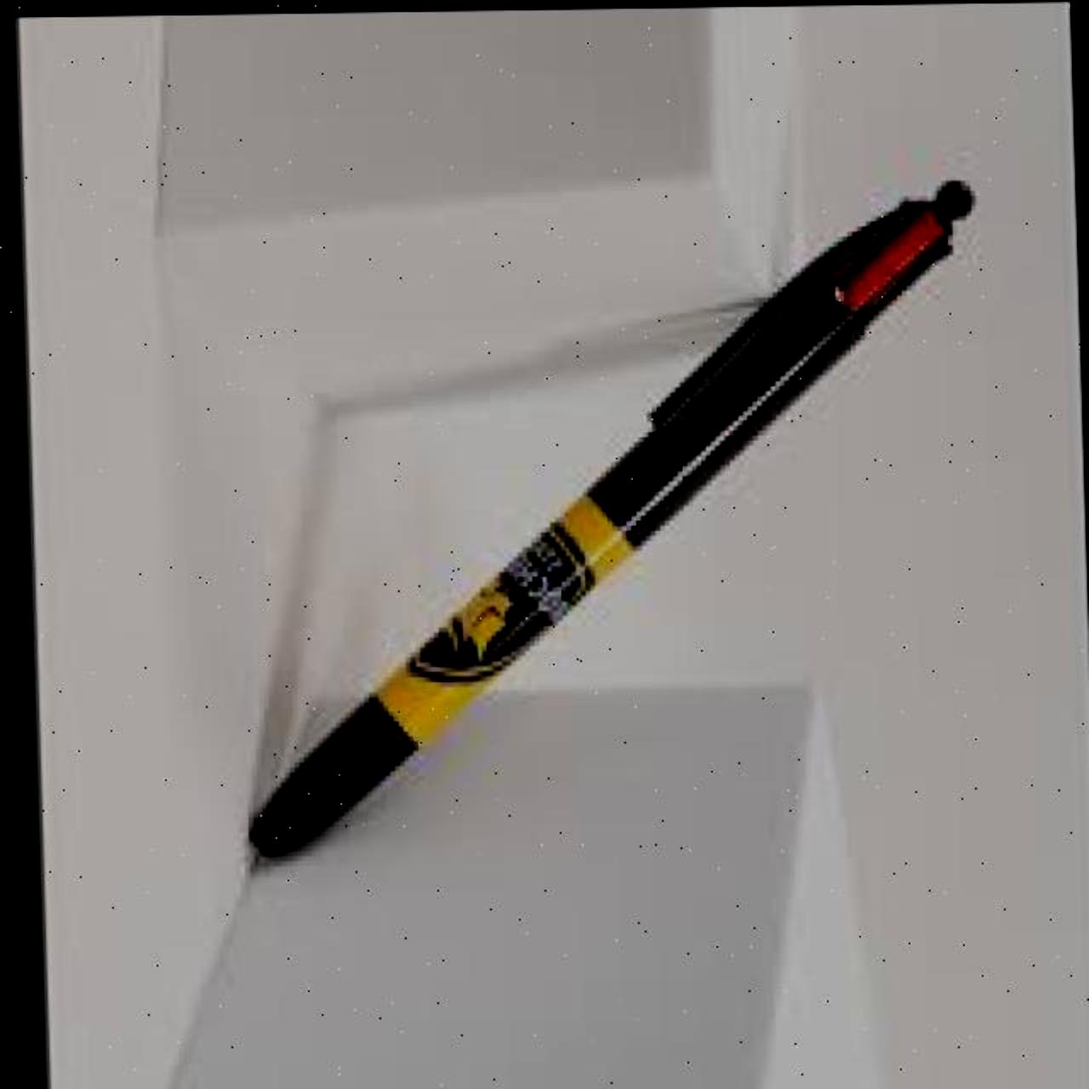pen: (228, 179, 999, 868)
